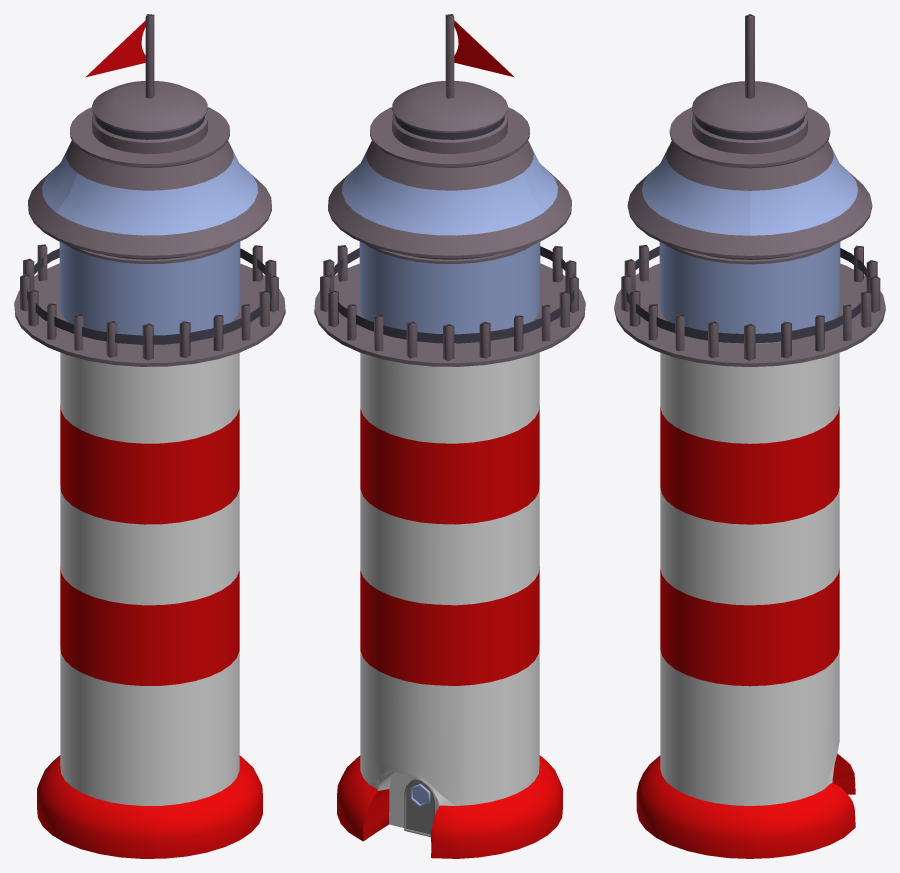
Rendered from LightHouse.fbx.
3 views of the same model, side by side, from view 1: azimuth 30°, elevation 25°; view 2: azimuth 150°, elevation 25°; view 3: azimuth 270°, elevation 25° (orthographic).
Parts seen in each view (by area): view 1: Cylinder.005, Cylinder.003, Cylinder, Circle.001, Cylinder.007, Plane.001; view 2: Cylinder.005, Cylinder.003, Cylinder, Circle.001, Cylinder.007, Plane.001, Plane; view 3: Cylinder.005, Cylinder.003, Cylinder, Circle.001, Cylinder.007.
Boxes of the visible parts, bbox=[...] form: Cylinder.005: bbox=[60, 352, 239, 805]; Cylinder.003: bbox=[37, 405, 262, 858]; Cylinder: bbox=[14, 14, 285, 366]; Circle.001: bbox=[42, 147, 257, 335]; Cylinder.007: bbox=[27, 116, 271, 344]; Plane.001: bbox=[85, 20, 145, 77]; Cylinder.005: bbox=[360, 352, 539, 827]; Cylinder.003: bbox=[337, 405, 562, 858]; Cylinder: bbox=[314, 14, 585, 366]; Circle.001: bbox=[342, 147, 557, 807]; Cylinder.007: bbox=[329, 116, 574, 343]; Plane.001: bbox=[454, 20, 514, 77]; Plane: bbox=[404, 778, 436, 837]; Cylinder.005: bbox=[660, 352, 839, 805]; Cylinder.003: bbox=[636, 407, 855, 858]; Cylinder: bbox=[614, 14, 885, 366]; Circle.001: bbox=[642, 149, 857, 343]; Cylinder.007: bbox=[626, 116, 870, 343].
Bounding box in the file's own units: 240 × 776 × 240.
